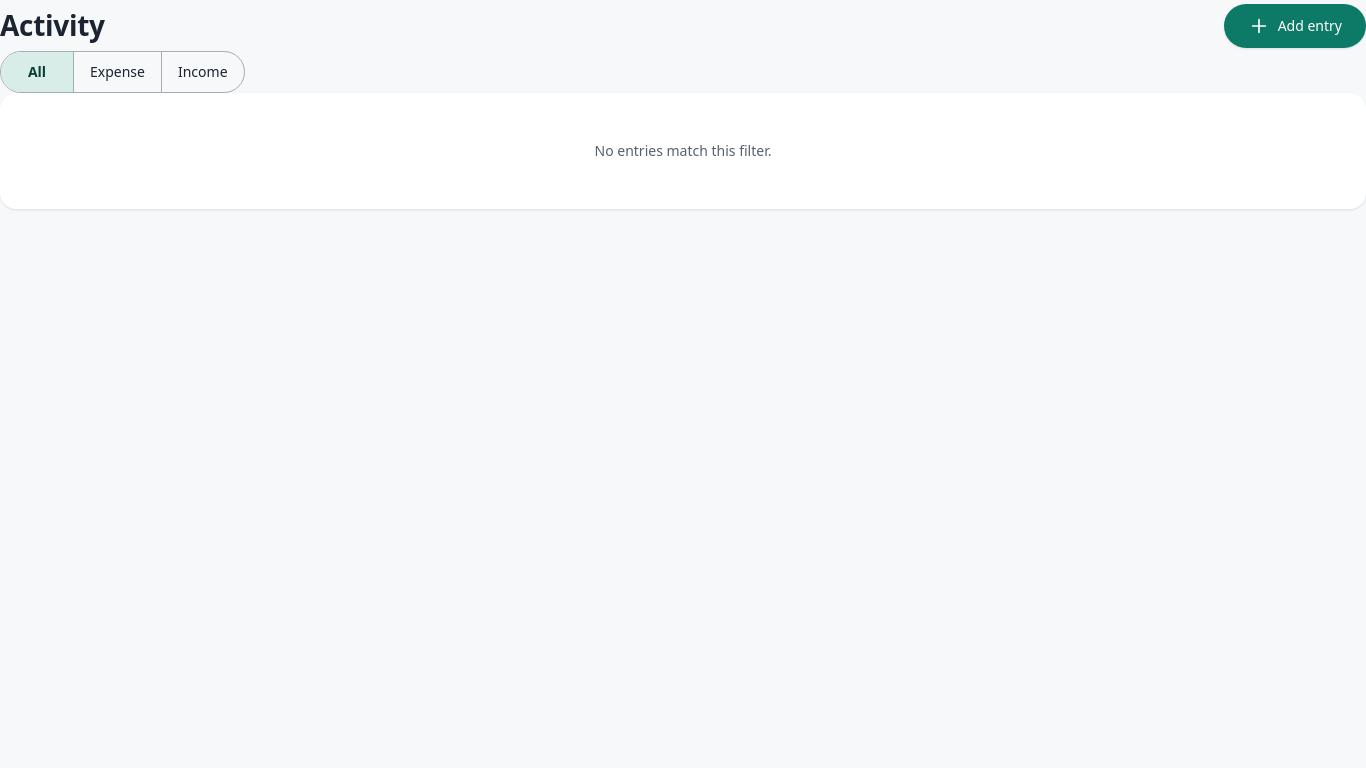
TransactionsPage › shows a validation error for an unparseable amount
The width and height of the screenshot is (1366, 768).
Check: the text "No entries match this filter." is shown, box [594, 141, 772, 160]
Click the button "Add entry".
click(1295, 26)  # box [1224, 4, 1365, 48]
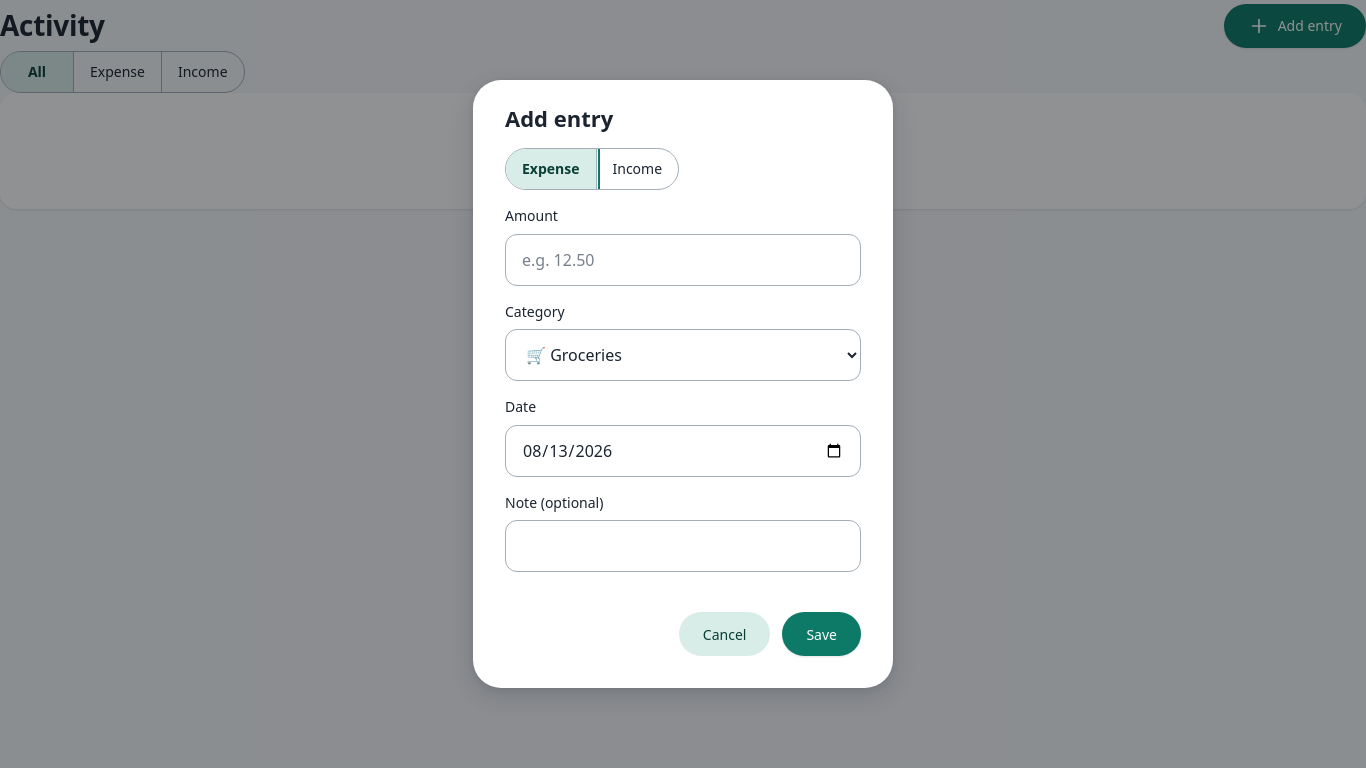
Type "abc" into the field labelled "Amount".
click(683, 260); type("abc")  # box [505, 234, 861, 286]
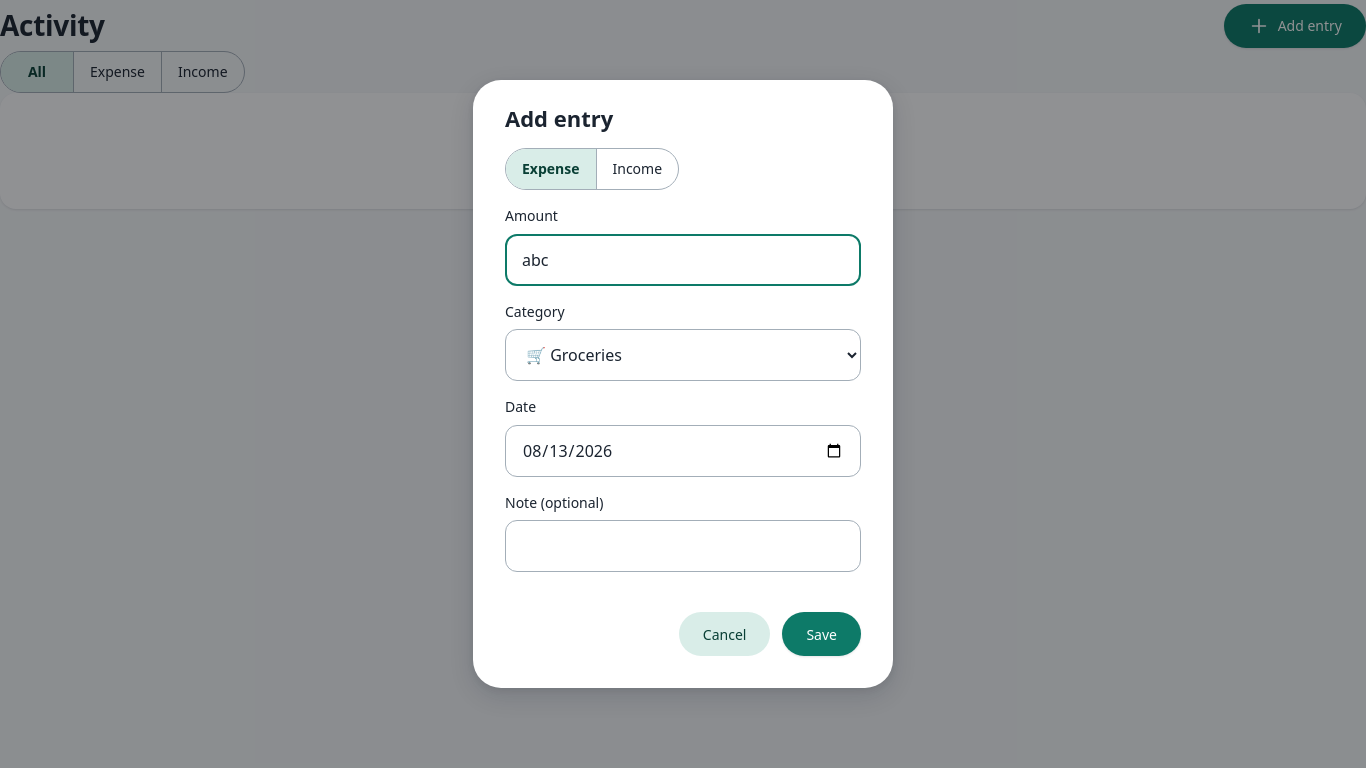
Click the button "Save".
click(822, 634)  # box [782, 612, 861, 656]
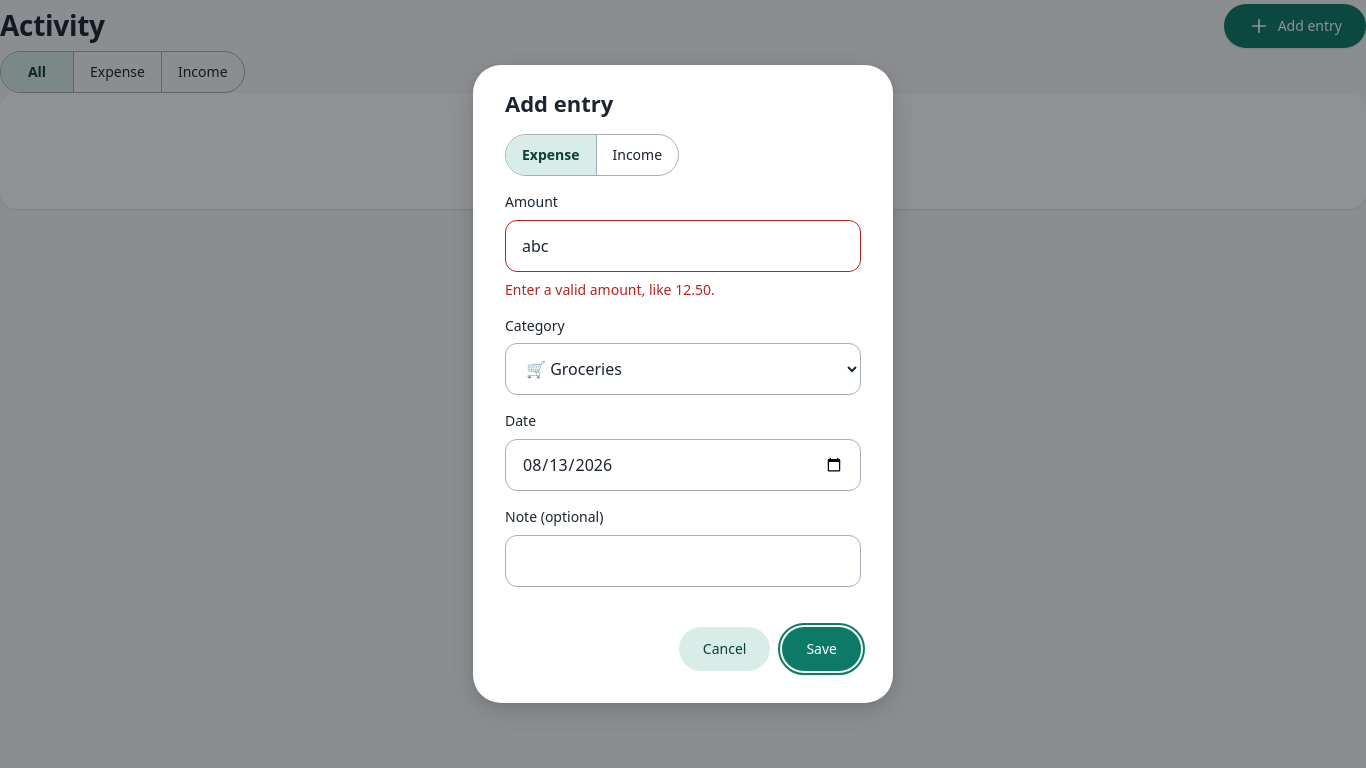
Check: the dialog "Add entry" is shown, box [473, 65, 893, 703]
Check: the message shows "Enter a valid amount", box [505, 280, 715, 298]
